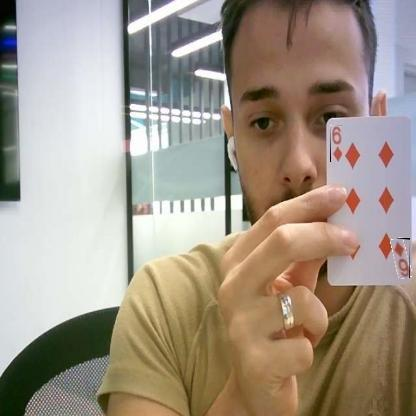6D: (393, 238, 410, 278), (330, 125, 342, 162)
